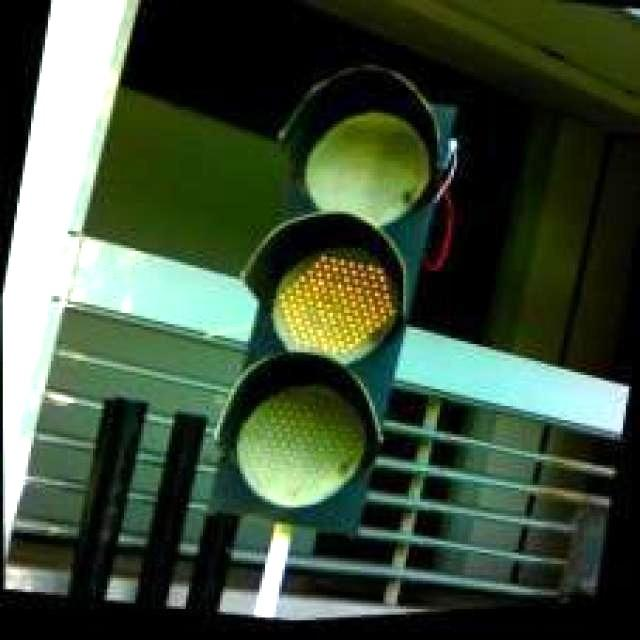Yellow: (192, 48, 462, 550)
